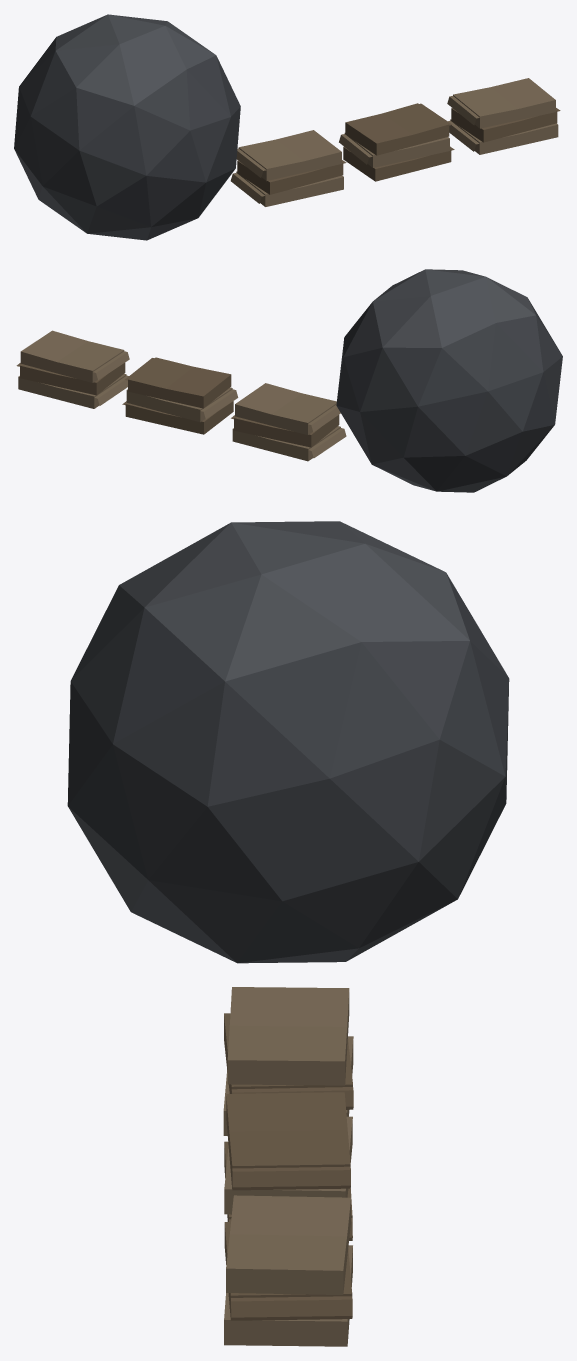
Rendered from socket_trackball.glb.
3 renders of one model, top to bottom at view 1: azimuth 30°, elevation 25°; view 2: azimuth 150°, elevation 25°; view 3: azimuth 270°, elevation 25°, orthographic. The views are drawn at different scales.
Visible parts, largest first — view 1: cannonball, cloth_row; view 2: cannonball, cloth_row; view 3: cannonball, cloth_row.
Part boxes in pixels (x1,y1,x2,y2): cannonball: (14, 14, 240, 240); cloth_row: (230, 78, 560, 206); cannonball: (336, 269, 562, 492); cloth_row: (16, 330, 346, 461); cannonball: (67, 521, 509, 963); cloth_row: (223, 987, 353, 1346).
Bounding box in the file's own units: 1.16 × 0.4246 × 0.4286.
